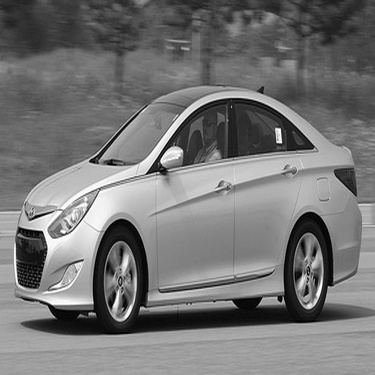car: (9, 73, 367, 337)
